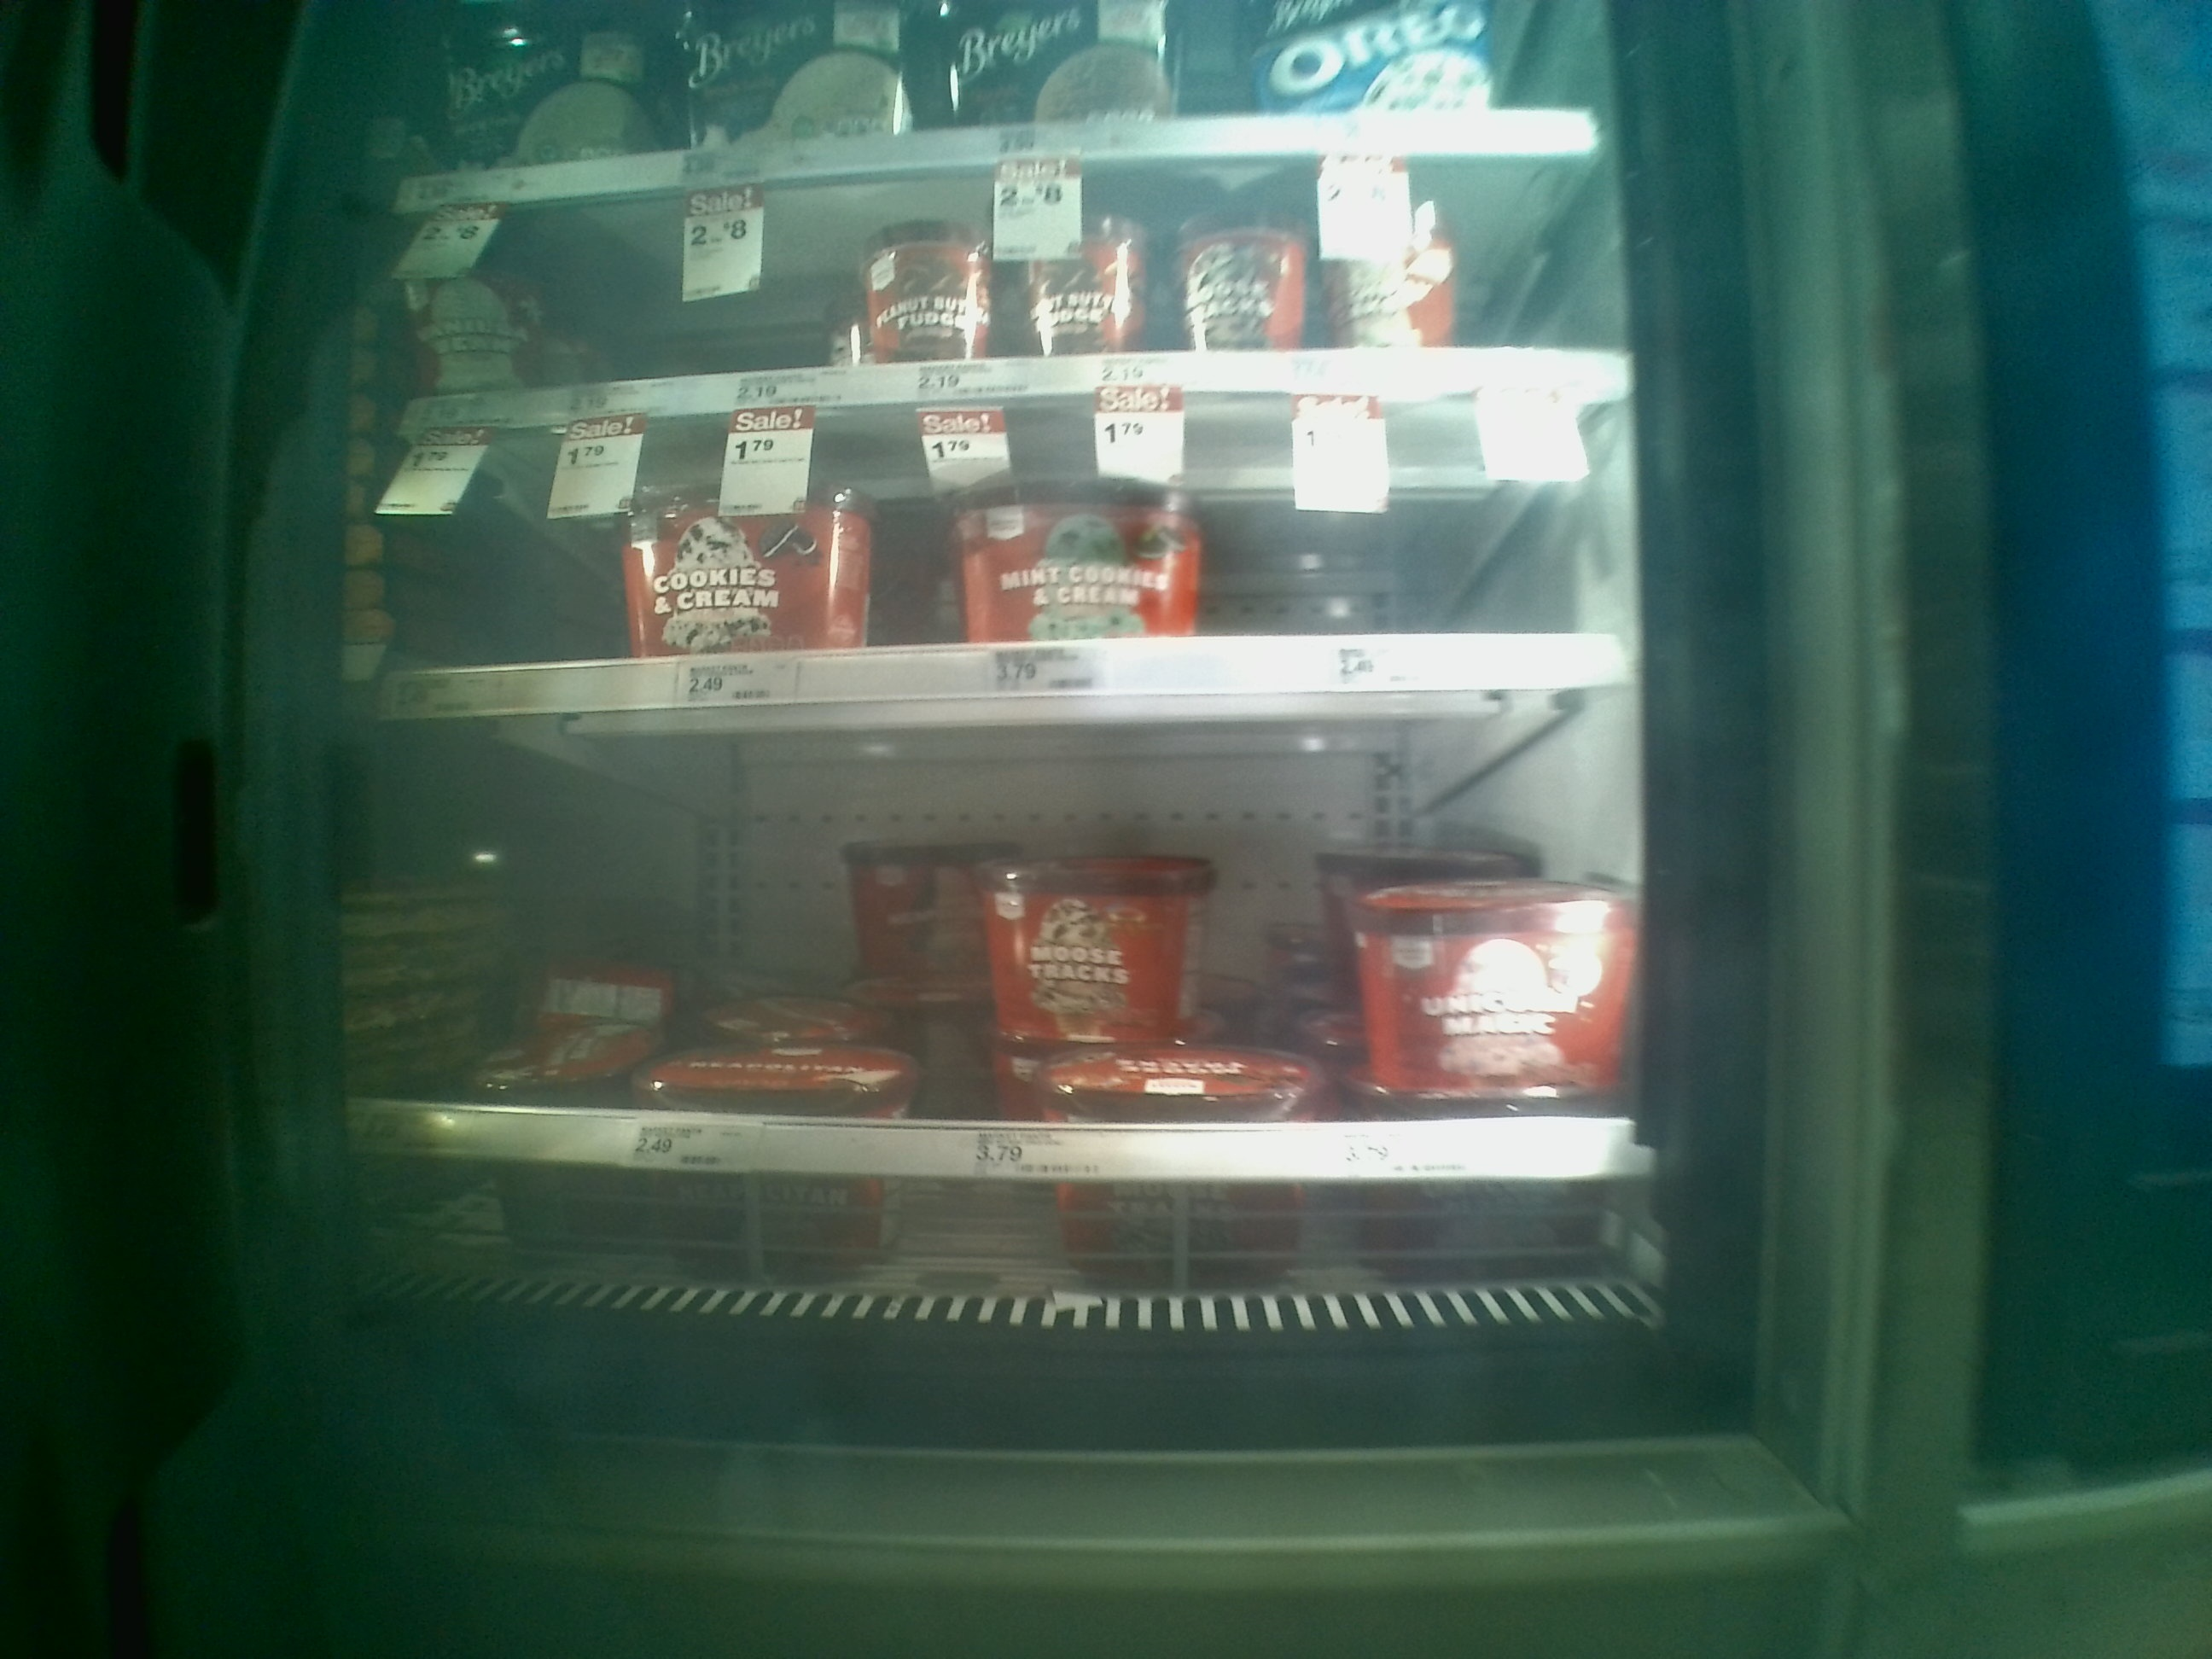ice-cream-shelf: (387, 697, 1663, 1180), (388, 401, 1635, 697)
